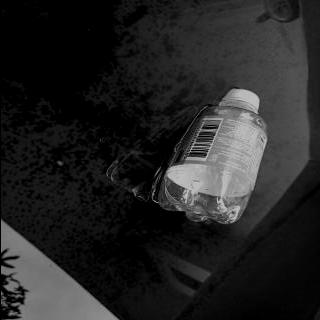bottle: (152, 88, 268, 226)
